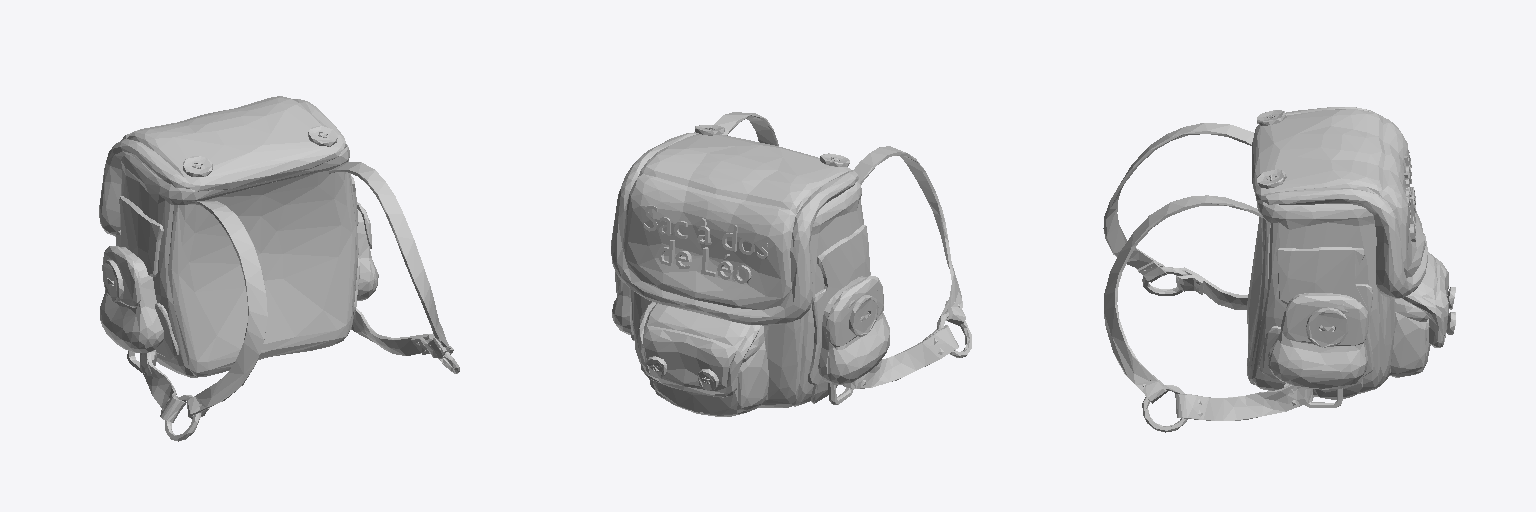
The model's file is backpack_leo_2.obj.
3 renders of one model, left to right at view 1: azimuth 30°, elevation 25°; view 2: azimuth 150°, elevation 25°; view 3: azimuth 270°, elevation 25°, orthographic.
Visible parts, largest first — view 1: Group39120.052; view 2: Group39120.052; view 3: Group39120.052.
Boxes of the visible parts, <box> form: Group39120.052: <box>99,96,459,441</box>; Group39120.052: <box>611,112,971,416</box>; Group39120.052: <box>1103,107,1455,432</box>.
Bounding box in the file's own units: 3.05 × 2.31 × 3.25.